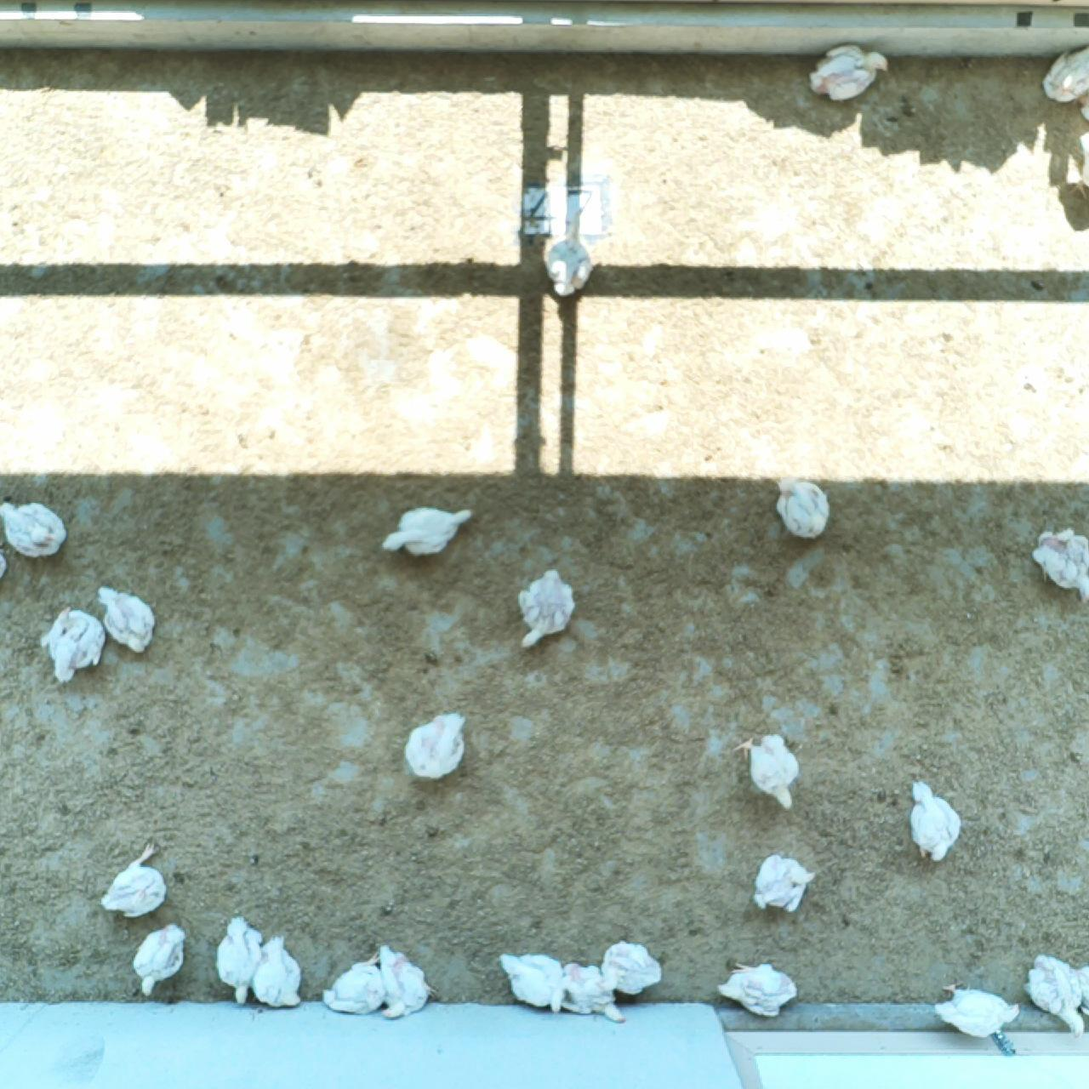chicken: (508, 566, 597, 660), (91, 842, 184, 927), (741, 844, 829, 925), (802, 38, 898, 112), (401, 702, 476, 794), (762, 475, 848, 555), (903, 772, 975, 867), (381, 498, 480, 565), (719, 957, 804, 1028), (536, 230, 608, 310), (129, 925, 204, 1000), (92, 586, 169, 658), (933, 979, 1022, 1038), (1026, 955, 1085, 1041), (1028, 524, 1089, 605), (42, 604, 107, 679), (738, 726, 798, 804), (490, 951, 563, 1010), (378, 941, 433, 1019), (317, 955, 389, 1014), (558, 962, 625, 1025), (250, 937, 307, 1009), (1, 497, 62, 562), (217, 916, 262, 1003), (597, 942, 664, 993), (1045, 50, 1089, 118), (1069, 131, 1089, 195), (1078, 957, 1089, 1020), (0, 550, 14, 584)
